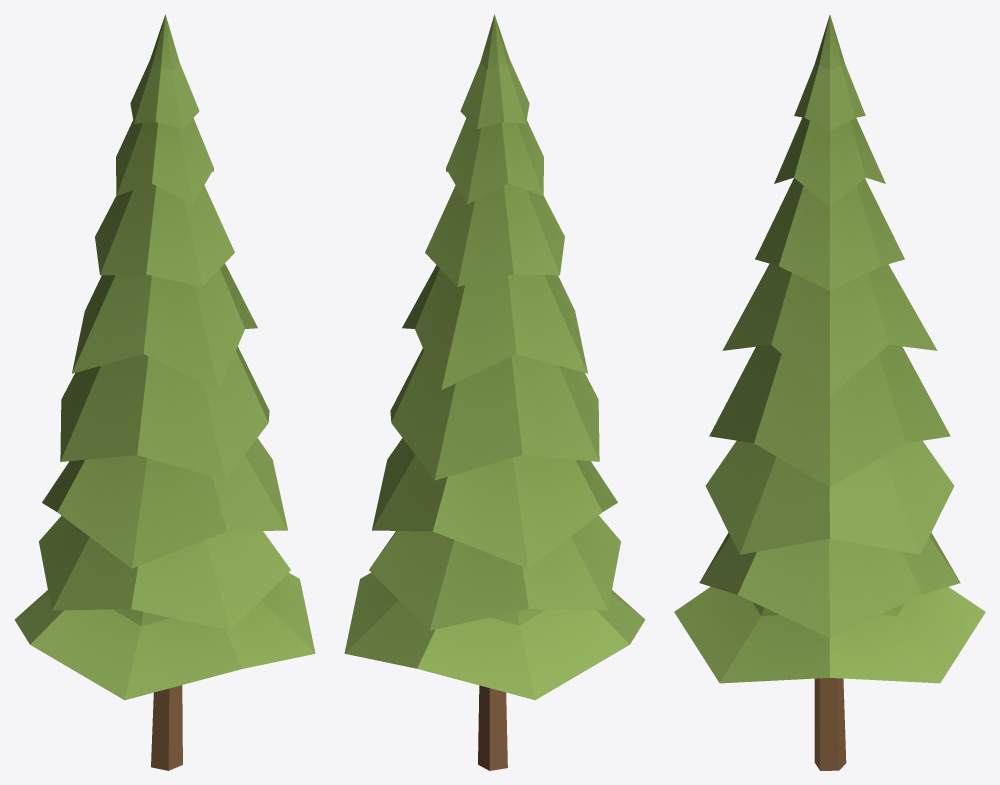
Rendered from Pine_Tree_l_02.fbx.
3 renders of one model, left to right at view 1: azimuth 30°, elevation 25°; view 2: azimuth 150°, elevation 25°; view 3: azimuth 270°, elevation 25°, orthographic.
Parts seen in each view (by area): view 1: Pine_Tree_l_02; view 2: Pine_Tree_l_02; view 3: Pine_Tree_l_02.
Part boxes in pixels (x1,y1,x2,y2): Pine_Tree_l_02: (14, 14, 315, 770); Pine_Tree_l_02: (344, 14, 645, 770); Pine_Tree_l_02: (674, 15, 985, 770).
Bounding box in the file's own units: 666 × 1768 × 666.
